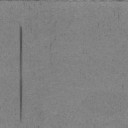surface scratch: (19, 26, 23, 121)
